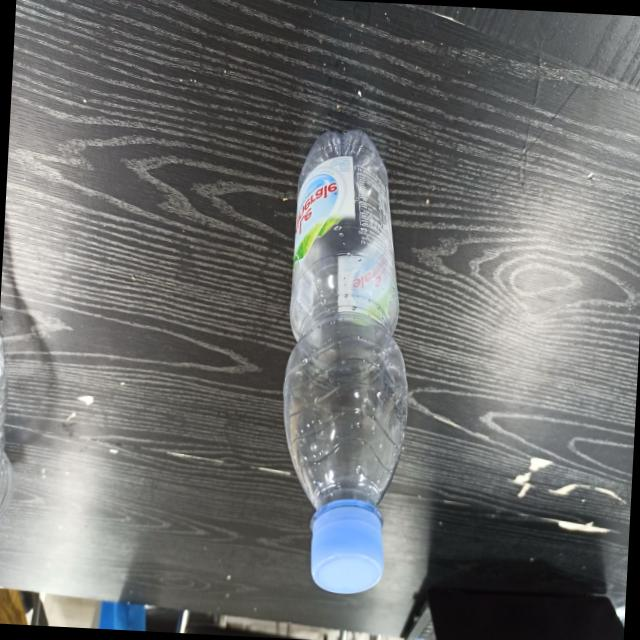BotolPlastik: (272, 126, 424, 599)
